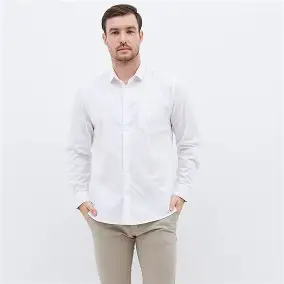celana_salah: (82, 217, 184, 284)
kemeja_benar: (72, 71, 194, 214)
